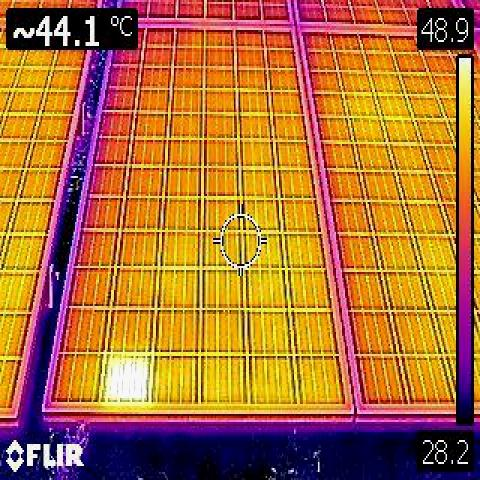fault: (102, 350, 154, 406)
